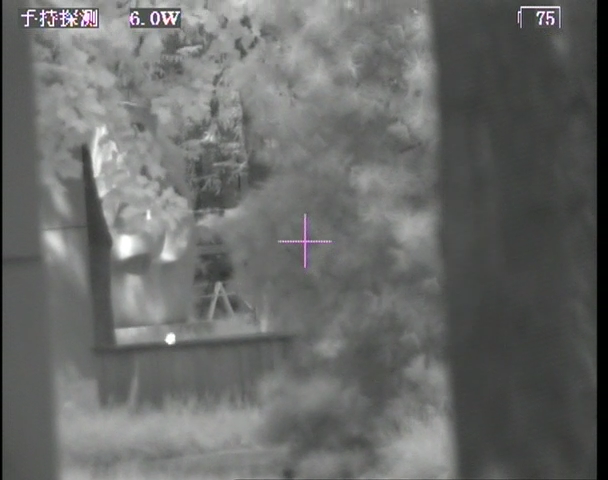my: (164, 330, 178, 345)
